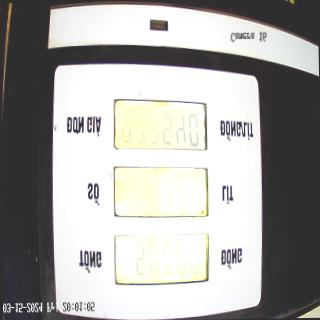screen: (110, 94, 212, 292)
